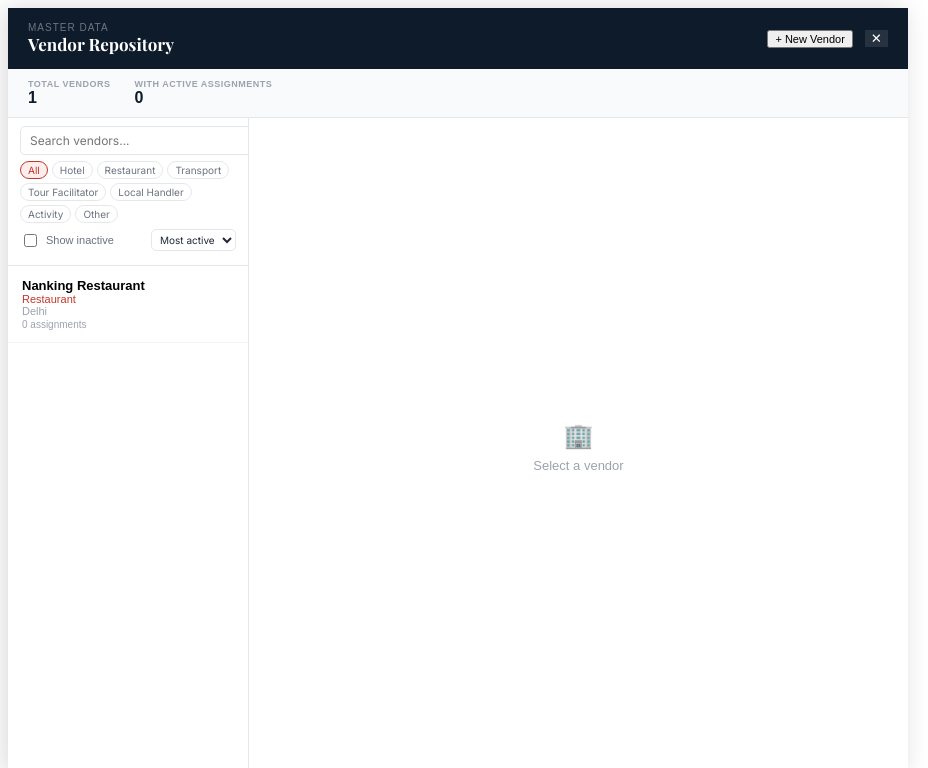
Scenario: VendorMaster: New/Edit gated by vendors_edit › a user with vendors_edit sees New and Edit
The width and height of the screenshot is (928, 768).
expect the button "+ New Vendor" is shown: met, box [767,30,853,48]
Click the text "Nanking Restaurant": {"x": 83, "y": 286} [22,278,145,293]
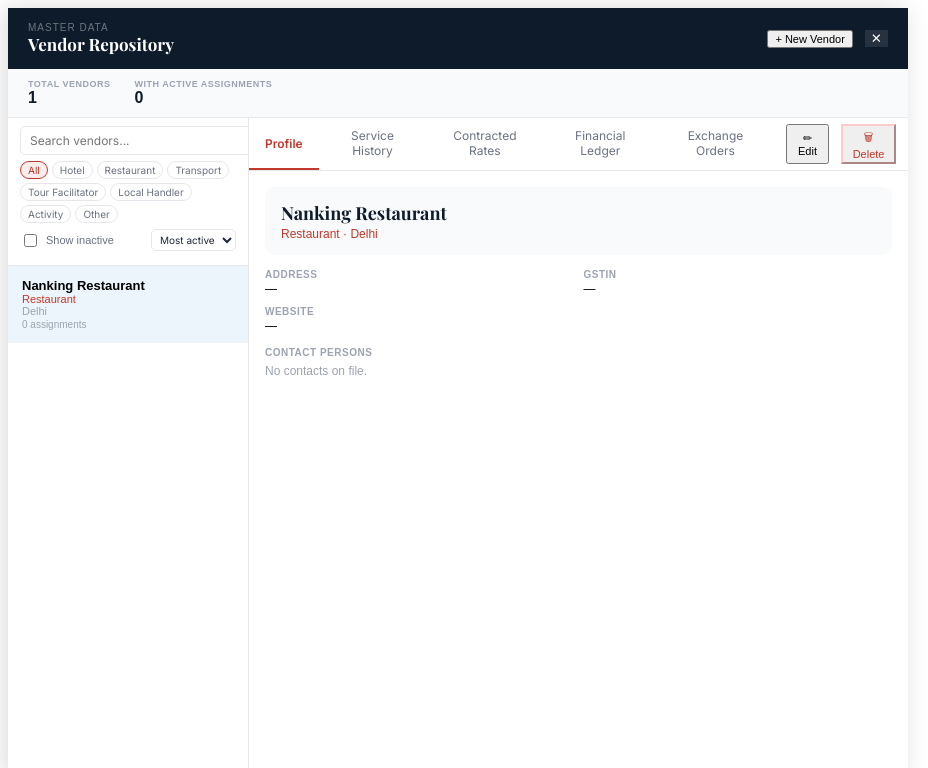
expect the button "✏ Edit" is shown: met, box [786,124,829,164]
